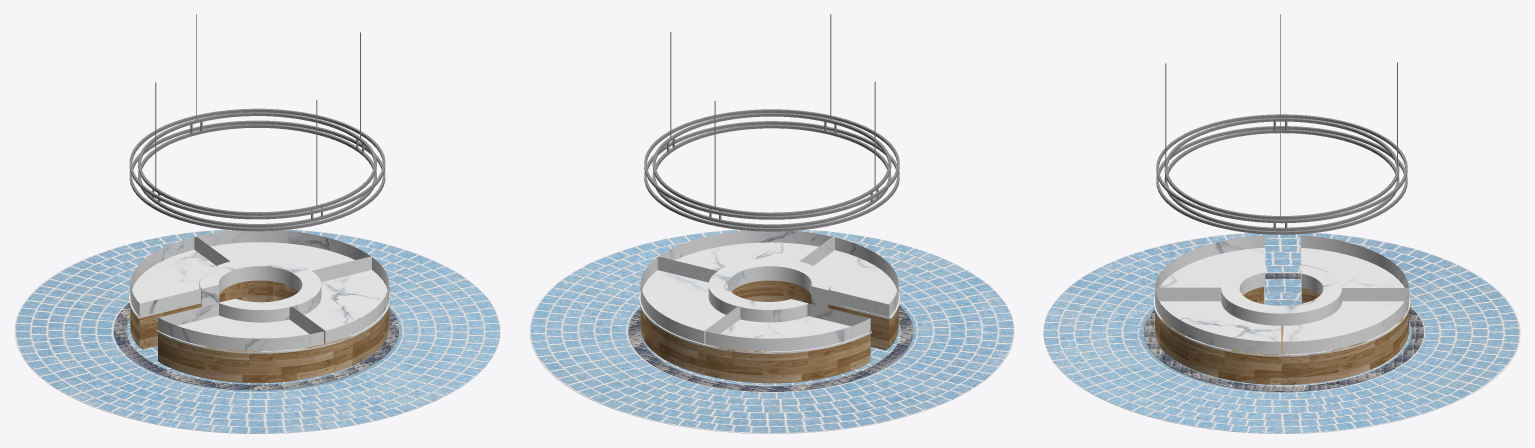
File: haiXianTai.glb
3 renders of one model, left to right at view 1: azimuth 30°, elevation 25°; view 2: azimuth 150°, elevation 25°; view 3: azimuth 270°, elevation 25°, orthographic.
Visible parts, largest first — view 1: haiXianTai; view 2: haiXianTai; view 3: haiXianTai.
Boxes of the visible parts, left/top/right/bottom form: haiXianTai: left=14, top=14, right=500, bottom=433; haiXianTai: left=529, top=14, right=1014, bottom=433; haiXianTai: left=1043, top=14, right=1520, bottom=433.
Size of the model in its own units: 7.71 by 4.81 by 7.71.
5 materials, 4 textured.
